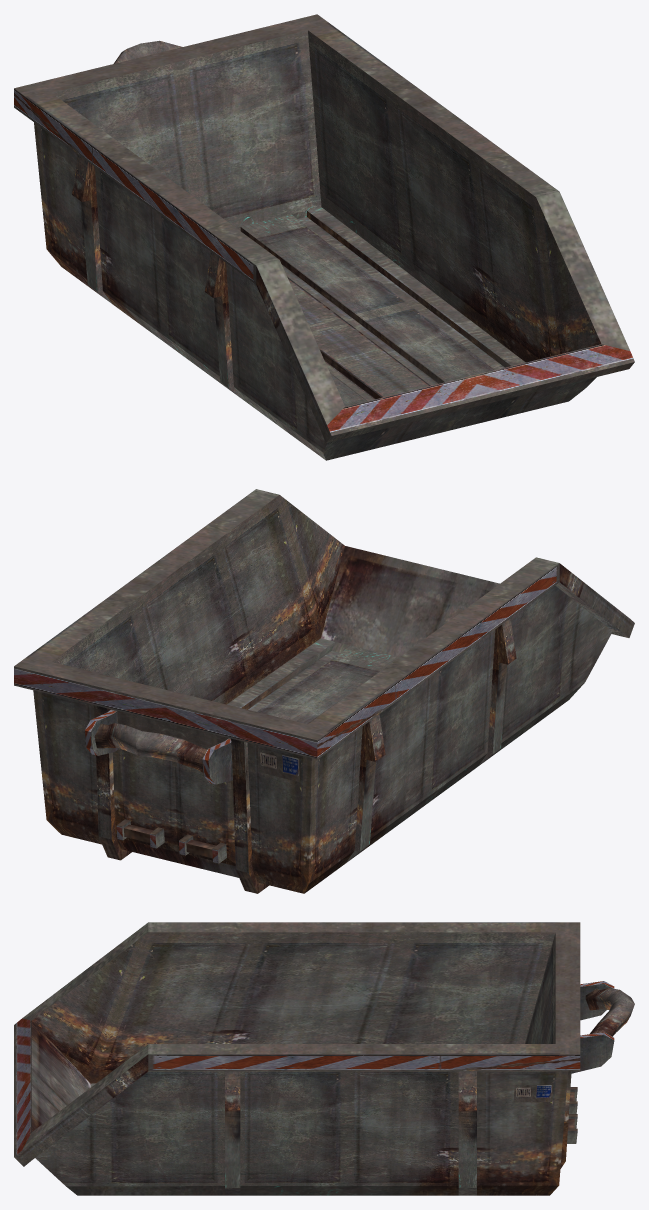
File: Model_Container_06.fbx
3 views of the same model, one above another, from view 1: azimuth 30°, elevation 25°; view 2: azimuth 150°, elevation 25°; view 3: azimuth 270°, elevation 25° (orthographic). The views are drawn at different scales.
Visible parts, largest first — view 1: Container_06; view 2: Container_06; view 3: Container_06.
Boxes of the visible parts, left/top/right/bottom form: Container_06: left=14, top=14, right=634, bottom=460; Container_06: left=14, top=489, right=634, bottom=893; Container_06: left=14, top=922, right=634, bottom=1195.
Size of the model in its own units: 266 by 155 by 528.
